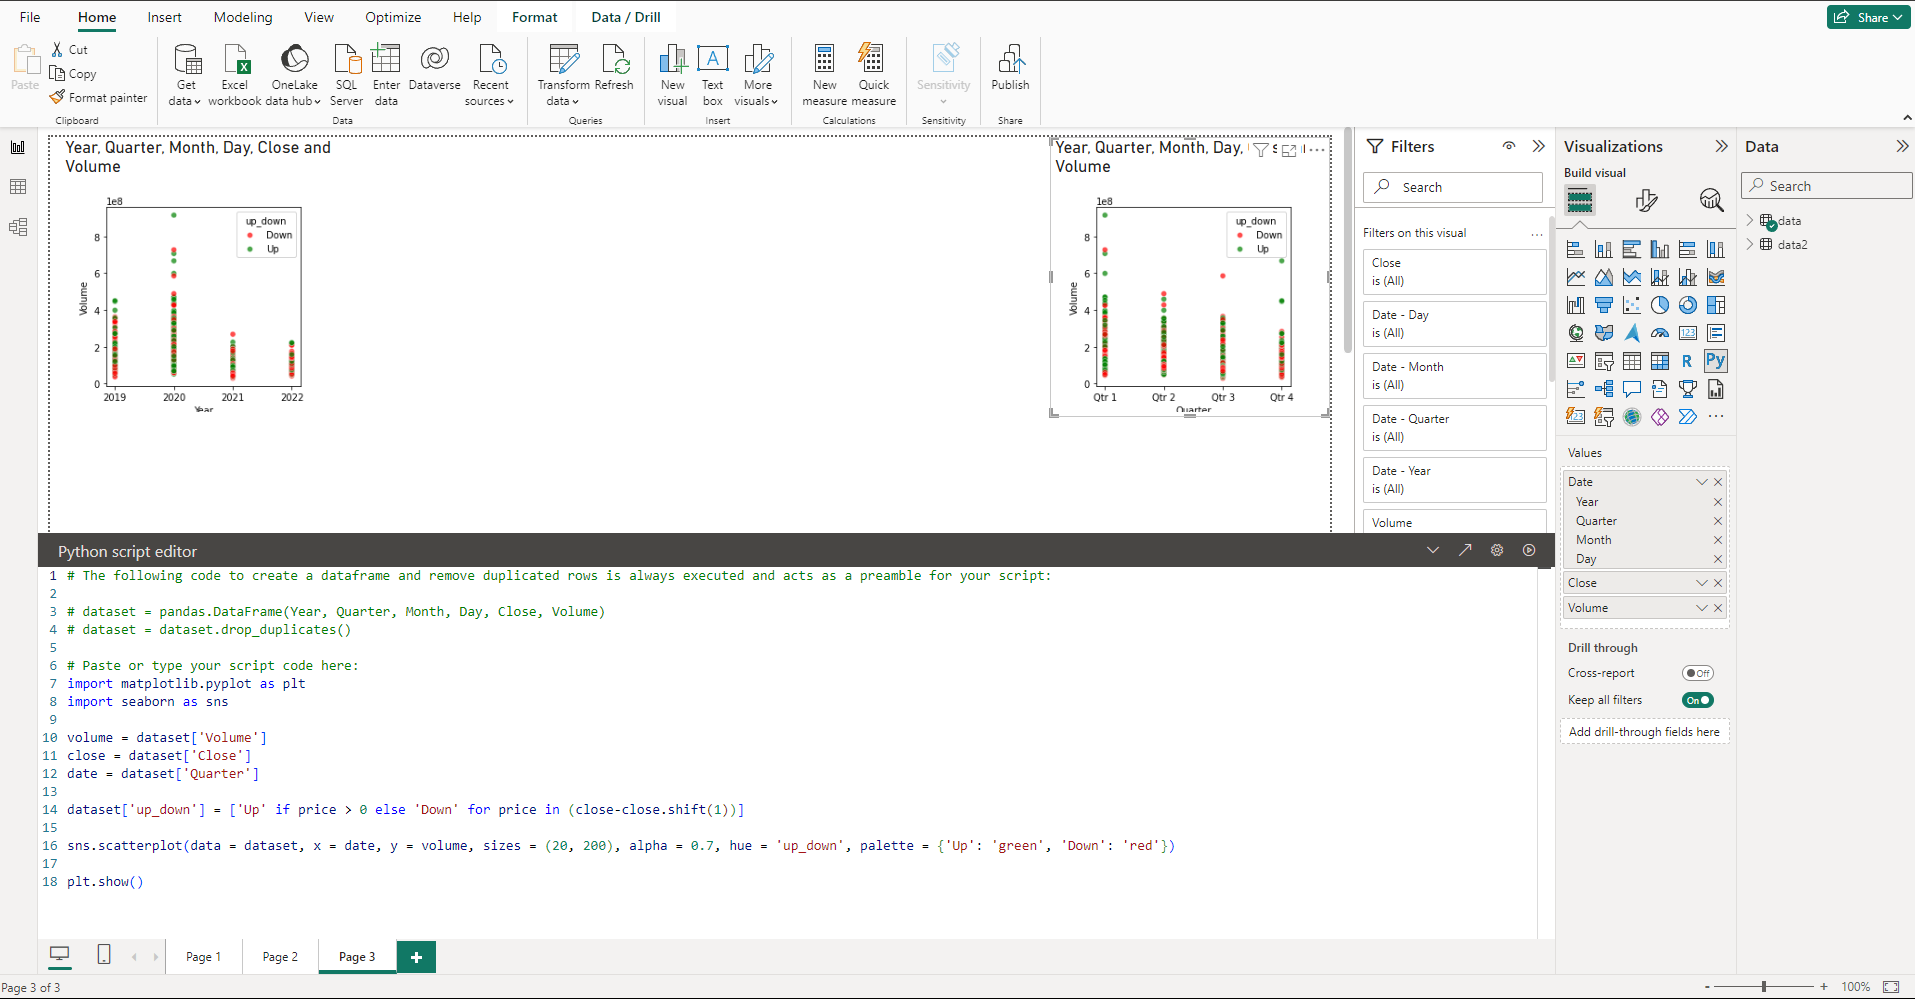

What the dashboard file says about the page in this screenshot:
{"tool":"powerbi","page":{"name":"Page 3","canvas":[1280,720],"ordinal":2},"visuals":[{"type":"pythonVisual","fields":{"Values":["data.Date.Variation.Date Hierarchy.Year","data.Date.Variation.Date Hierarchy.Quarter","data.Date.Variation.Date Hierarchy.Month","data.Date.Variation.Date Hierarchy.Day","data.Close","data.Volume"]},"box":[10,0,280,280],"z":0},{"type":"pythonVisual","fields":{"Values":["data.Date.Variation.Date Hierarchy.Year","data.Date.Variation.Date Hierarchy.Quarter","data.Date.Variation.Date Hierarchy.Month","data.Date.Variation.Date Hierarchy.Day","data.Close","data.Volume"]},"box":[1000,0,280,280],"z":1000},{"type":"pythonVisual","fields":{"Values":["data.Date.Variation.Date Hierarchy.Year","data.Date.Variation.Date Hierarchy.Quarter","data.Date.Variation.Date Hierarchy.Month","data.Date.Variation.Date Hierarchy.Day","data.Close","data.Volume"]},"box":[0,440,280,280],"z":2000},{"type":"pythonVisual","fields":{"Values":["data.Date.Variation.Date Hierarchy.Year","data.Date.Variation.Date Hierarchy.Quarter","data.Date.Variation.Date Hierarchy.Month","data.Date.Variation.Date Hierarchy.Day","data.Close","data.Volume"]},"box":[1000,440,280,280],"z":3000}]}

Visuals, with their boxes on the page's 1280x720 design canvas (x1, y1, x2, y2). These are canvas units, not pixel positions in the 1915x999 screenshot, which may show the page scaled, cropped or inside an application window:
pythonVisual - data.Date.Variation.Date Hierarchy.Year x data.Date.Variation.Date Hierarchy.Quarter: (x1=10, y1=0, x2=290, y2=280)
pythonVisual - data.Date.Variation.Date Hierarchy.Year x data.Date.Variation.Date Hierarchy.Quarter: (x1=1000, y1=0, x2=1280, y2=280)
pythonVisual - data.Date.Variation.Date Hierarchy.Year x data.Date.Variation.Date Hierarchy.Quarter: (x1=0, y1=440, x2=280, y2=720)
pythonVisual - data.Date.Variation.Date Hierarchy.Year x data.Date.Variation.Date Hierarchy.Quarter: (x1=1000, y1=440, x2=1280, y2=720)
